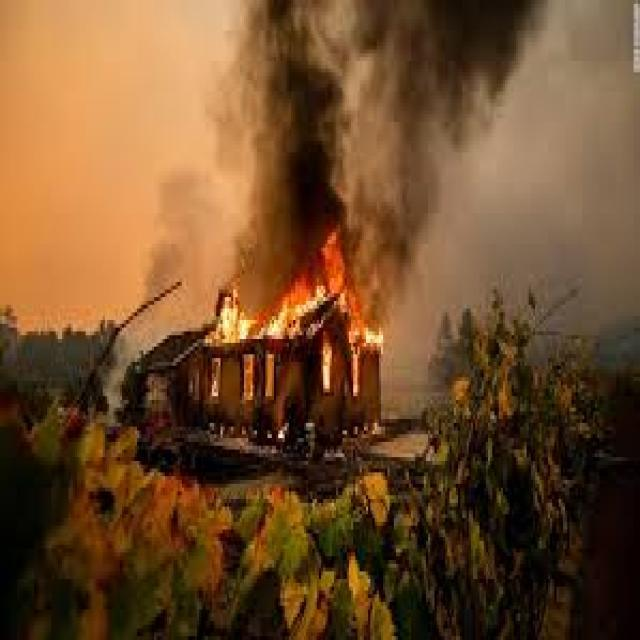Fire: (260, 218, 383, 390), (196, 270, 258, 382)
Smoke: (347, 0, 538, 206), (207, 0, 347, 219)
